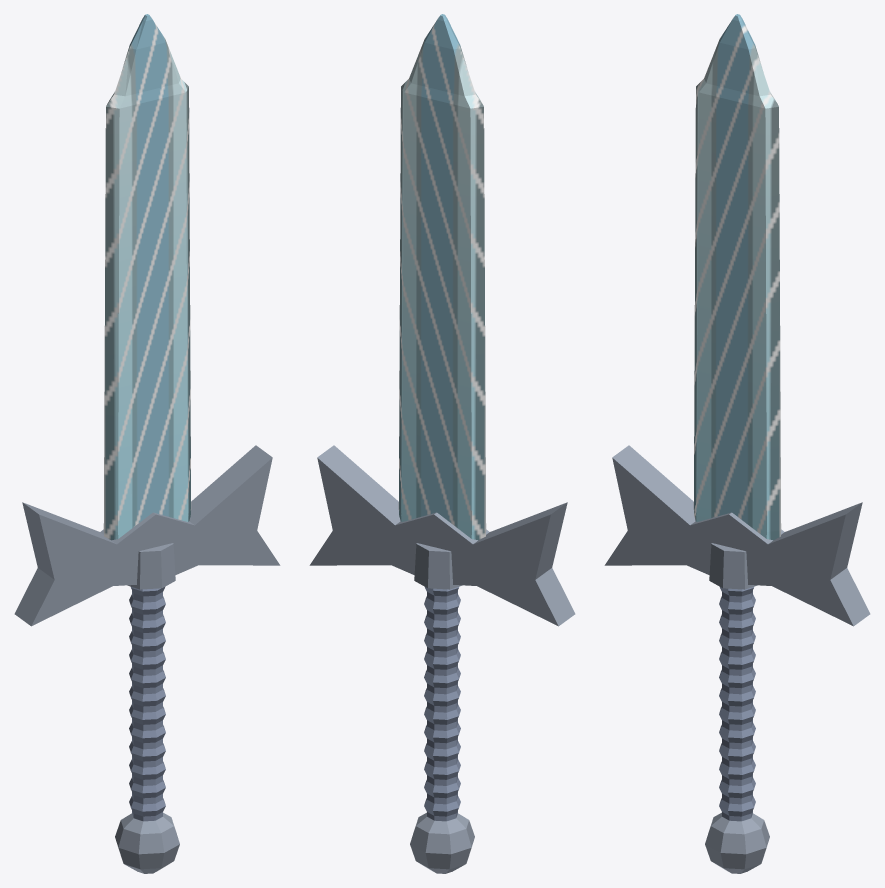
File: glass_blade.obj
The picture shows the model from 3 angles, left to right: view 1: azimuth 30°, elevation 25°; view 2: azimuth 150°, elevation 25°; view 3: azimuth 330°, elevation 25°; orthographic projection.
Visible parts, largest first — view 1: A_Blade.001_glass_blade_blade, B_Guard.001_glass_blade_fittings, C_Grip.001_glass_blade_grip, C_Pommel.001_glass_blade_fittings, B_Collar.001_glass_blade_fittings; view 2: A_Blade.001_glass_blade_blade, B_Guard.001_glass_blade_fittings, C_Grip.001_glass_blade_grip, C_Pommel.001_glass_blade_fittings, B_Collar.001_glass_blade_fittings; view 3: A_Blade.001_glass_blade_blade, B_Guard.001_glass_blade_fittings, C_Grip.001_glass_blade_grip, C_Pommel.001_glass_blade_fittings, B_Collar.001_glass_blade_fittings.
Part boxes in pixels (left/top/right/bottom): A_Blade.001_glass_blade_blade: left=103, top=14, right=191, bottom=540; B_Guard.001_glass_blade_fittings: left=14, top=445, right=280, bottom=626; C_Grip.001_glass_blade_grip: left=129, top=586, right=165, bottom=821; C_Pommel.001_glass_blade_fittings: left=115, top=812, right=179, bottom=873; B_Collar.001_glass_blade_fittings: left=127, top=543, right=175, bottom=589; A_Blade.001_glass_blade_blade: left=398, top=14, right=486, bottom=540; B_Guard.001_glass_blade_fittings: left=309, top=445, right=575, bottom=626; C_Grip.001_glass_blade_grip: left=424, top=586, right=460, bottom=821; C_Pommel.001_glass_blade_fittings: left=410, top=812, right=474, bottom=873; B_Collar.001_glass_blade_fittings: left=414, top=543, right=462, bottom=589; A_Blade.001_glass_blade_blade: left=693, top=14, right=781, bottom=540; B_Guard.001_glass_blade_fittings: left=604, top=445, right=870, bottom=626; C_Grip.001_glass_blade_grip: left=719, top=586, right=755, bottom=821; C_Pommel.001_glass_blade_fittings: left=705, top=812, right=769, bottom=873; B_Collar.001_glass_blade_fittings: left=709, top=543, right=757, bottom=589.
Bounding box in the file's own units: 1.28 × 4.2 × 0.3.
Materials: 3 (1 with a texture image).
